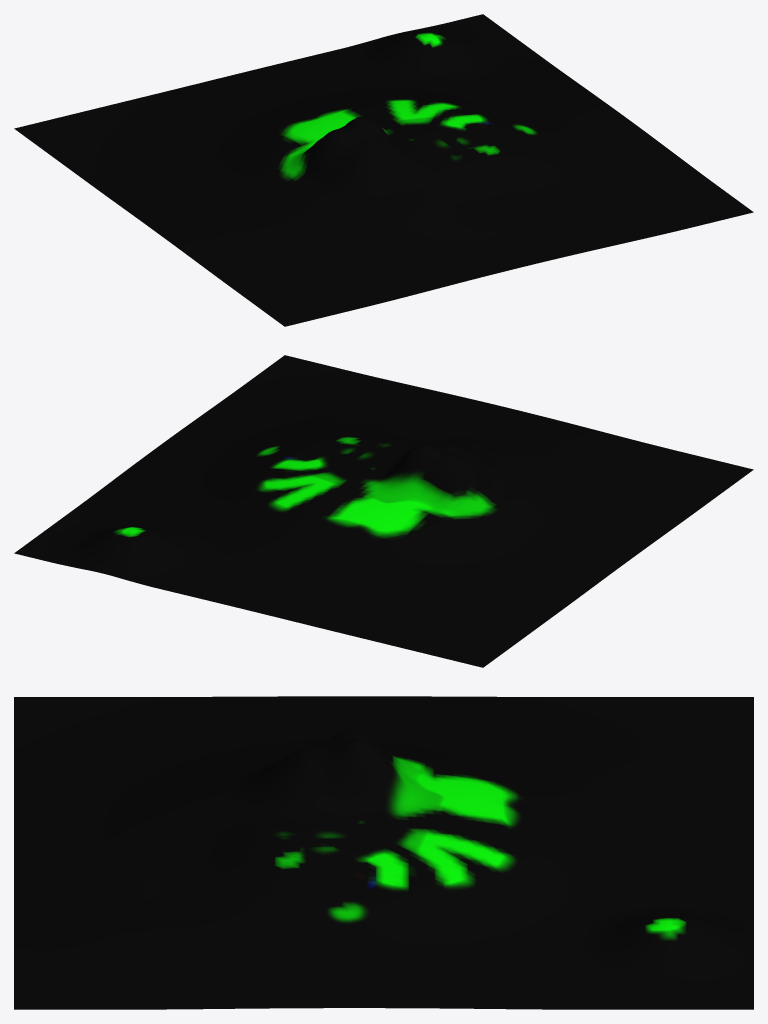
The model's file is world.glb.
3 views of the same model, one above another, from view 1: azimuth 30°, elevation 25°; view 2: azimuth 150°, elevation 25°; view 3: azimuth 270°, elevation 25° (orthographic). The views are drawn at different scales.
Parts seen in each view (by area): view 1: land.001; view 2: land.001; view 3: land.001.
Boxes of the visible parts, x1,y1,x2,y2 form: land.001: [14, 14, 753, 326]; land.001: [14, 355, 753, 667]; land.001: [14, 696, 753, 1009].
Size of the model in its own units: 400 by 54.7 by 400.
1 material, 1 textured.
